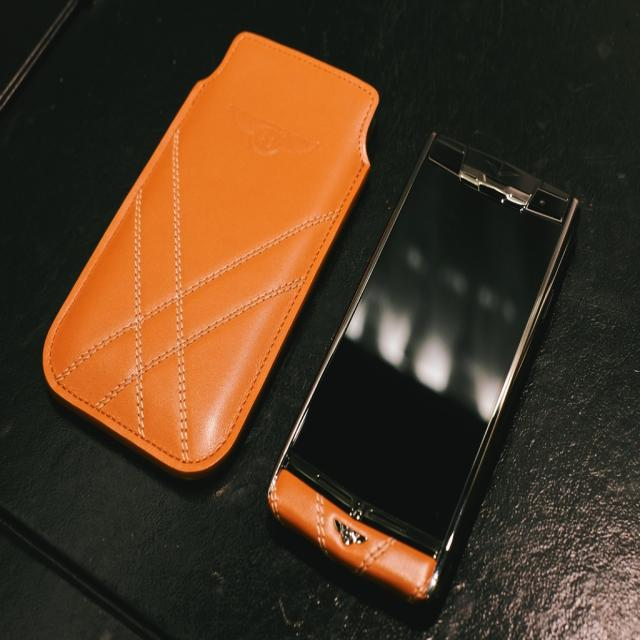Mobile-phone: (260, 119, 584, 612)
